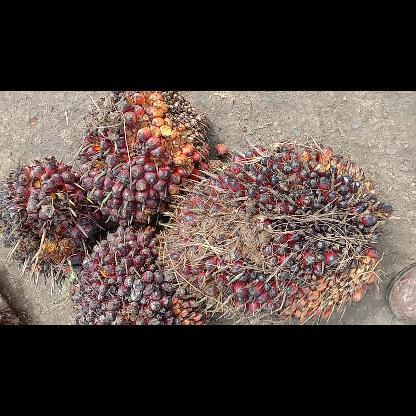Kurang masak: (154, 136, 394, 324), (68, 222, 218, 324)
TBS masak: (72, 91, 214, 227), (0, 154, 106, 290)
